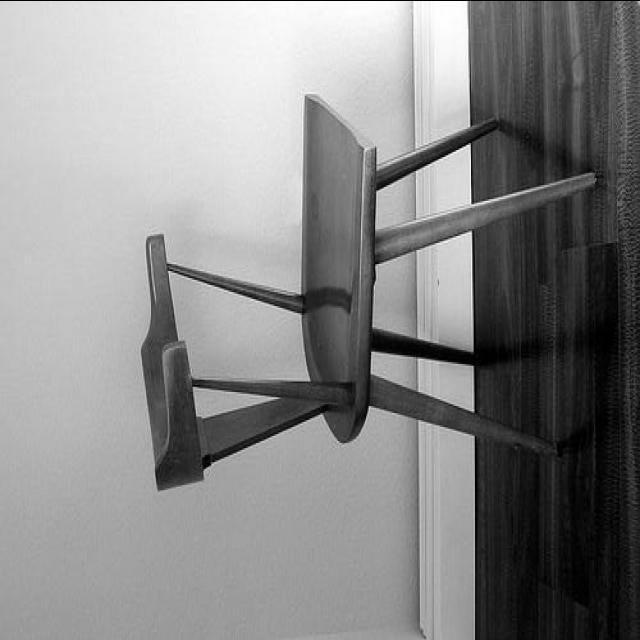chair: (137, 90, 598, 530)
